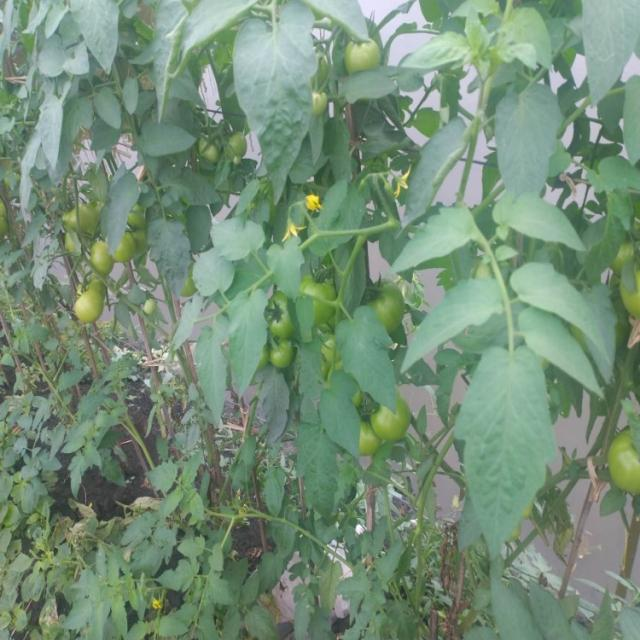tomato: (368, 275, 419, 334), (601, 418, 640, 495), (341, 37, 393, 78), (371, 394, 417, 436), (306, 272, 338, 320), (615, 258, 640, 313), (73, 280, 105, 320), (112, 234, 142, 276), (92, 232, 120, 272), (68, 203, 104, 234), (303, 94, 335, 126), (266, 336, 294, 372), (196, 126, 223, 163), (223, 128, 252, 159), (271, 295, 291, 334)
